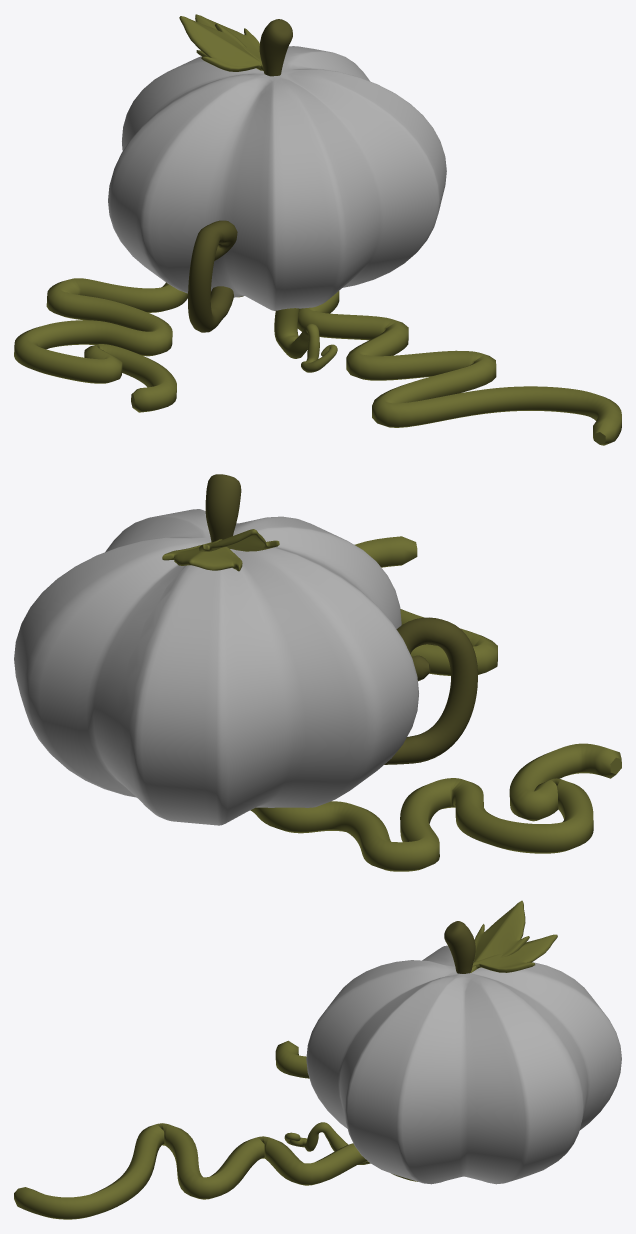
Rendered from SM_Gregory_ALL_02.fbx.
3 views of the same model, one above another, from view 1: azimuth 30°, elevation 25°; view 2: azimuth 150°, elevation 25°; view 3: azimuth 270°, elevation 25° (orthographic). The views are drawn at different scales.
Parts seen in each view (by area): view 1: SM_GregoryPumpkin_novines_01:pSphere1, defaultBrush1Main, defaultBrush2Main, defaultBrush4Main, leaf_pumpkin_02, defaultBrush5Main, SM_GregoryPumpkin_novines_01:pCylinder1, leaf_pumpkin_01; view 2: SM_GregoryPumpkin_novines_01:pSphere1, defaultBrush2Main, defaultBrush4Main, defaultBrush1Main, SM_GregoryPumpkin_novines_01:pCylinder1, leaf_pumpkin_01, leaf_pumpkin_02; view 3: SM_GregoryPumpkin_novines_01:pSphere1, defaultBrush1Main, leaf_pumpkin_02, leaf_pumpkin_01, SM_GregoryPumpkin_novines_01:pCylinder1, defaultBrush5Main, defaultBrush2Main.
Part boxes in pixels (box(x1,y1,x2,y2)): SM_GregoryPumpkin_novines_01:pSphere1: box(108, 46, 446, 310); defaultBrush1Main: box(297, 291, 621, 445); defaultBrush2Main: box(14, 278, 243, 412); defaultBrush4Main: box(188, 220, 237, 332); leaf_pumpkin_02: box(179, 16, 261, 71); defaultBrush5Main: box(274, 308, 337, 372); SM_GregoryPumpkin_novines_01:pCylinder1: box(259, 19, 292, 76); leaf_pumpkin_01: box(195, 14, 263, 71); SM_GregoryPumpkin_novines_01:pSphere1: box(14, 509, 418, 825); defaultBrush2Main: box(250, 743, 621, 871); defaultBrush4Main: box(384, 617, 477, 764); defaultBrush1Main: box(354, 536, 497, 675); SM_GregoryPumpkin_novines_01:pCylinder1: box(205, 474, 241, 542); leaf_pumpkin_01: box(162, 539, 242, 571); leaf_pumpkin_02: box(199, 529, 279, 551); SM_GregoryPumpkin_novines_01:pSphere1: box(306, 945, 621, 1184); defaultBrush1Main: box(14, 1123, 417, 1219); leaf_pumpkin_02: box(470, 900, 529, 972); leaf_pumpkin_01: box(472, 934, 557, 972); SM_GregoryPumpkin_novines_01:pCylinder1: box(444, 921, 475, 973); defaultBrush5Main: box(284, 1122, 370, 1164); defaultBrush2Main: box(275, 1040, 309, 1078).
Bounding box in the file's own units: 4.47 × 2.91 × 6.19.
